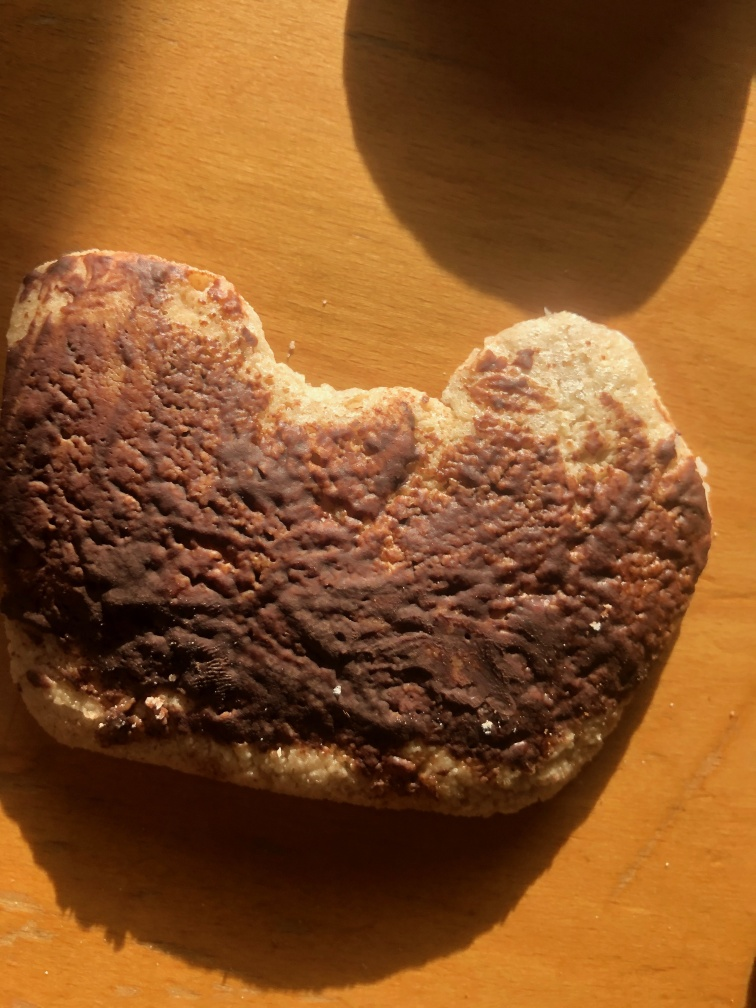weird #1: (9, 243, 719, 834)
